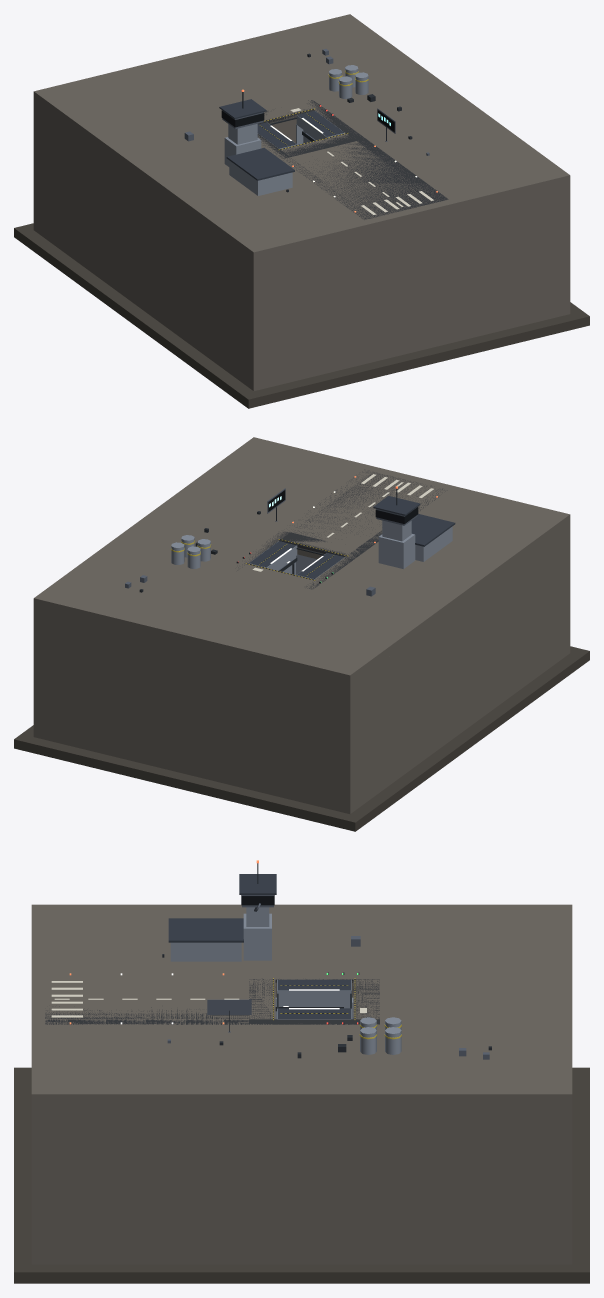
Rendered from runway-port-s.glb.
3 views of the same model, one above another, from view 1: azimuth 30°, elevation 25°; view 2: azimuth 150°, elevation 25°; view 3: azimuth 270°, elevation 25° (orthographic). The views are drawn at different scales.
Visible parts, largest first — view 1: rockFaceFore, rockFaceL, rockDeckL, rockDeckR, rockDeckFore, rockSkirt1, rockDeckAft, portStrip, rockSkirt2, rockFaceR, worksShedRoof, worksShed (+4 smaller); view 2: rockFaceAft, rockFaceL, rockDeckL, rockDeckR, rockDeckAft, rockSkirt0, rockDeckFore, rockSkirt2, rockFaceR, portStrip, worksTowerSeg0, worksShedRoof (+5 smaller); view 3: rockFaceR, rockDeckR, rockDeckL, rockSkirt3, rockDeckAft, rockDeckFore, rockSkirt0, rockSkirt1, portStrip, worksShedRoof, worksShed, worksTowerSeg0 (+7 smaller).
Boxes of the visible parts, x1=… form: rockFaceFore: x1=266, y1=188, x2=557, y2=387; rockFaceL: x1=33, y1=101, x2=266, y2=390; rockDeckL: x1=33, y1=61, x2=378, y2=261; rockDeckR: x1=225, y1=14, x2=570, y2=215; rockDeckFore: x1=280, y1=133, x2=444, y2=231; rockSkirt1: x1=241, y1=311, x2=589, y2=408; rockDeckAft: x1=159, y1=44, x2=313, y2=128; portStrip: x1=283, y1=139, x2=448, y2=219; rockSkirt2: x1=14, y1=225, x2=257, y2=408; rockFaceR: x1=557, y1=185, x2=570, y2=316; worksShedRoof: x1=226, y1=147, x2=294, y2=180; worksShed: x1=229, y1=160, x2=292, y2=195; rockFaceAft: x1=46, y1=611, x2=337, y2=810; rockFaceL: x1=337, y1=524, x2=570, y2=813; rockDeckL: x1=225, y1=484, x2=570, y2=684; rockDeckR: x1=33, y1=437, x2=378, y2=638; rockDeckAft: x1=159, y1=564, x2=313, y2=654; rockSkirt0: x1=14, y1=734, x2=362, y2=831; rockDeckFore: x1=290, y1=467, x2=444, y2=559; rockSkirt2: x1=348, y1=648, x2=589, y2=831; rockFaceR: x1=33, y1=608, x2=46, y2=739; portStrip: x1=291, y1=469, x2=447, y2=550; worksTowerSeg0: x1=378, y1=534, x2=415, y2=568; worksShedRoof: x1=411, y1=514, x2=455, y2=546; rockFaceR: x1=31, y1=1106, x2=572, y2=1264; rockDeckR: x1=31, y1=1019, x2=572, y2=1106; rockDeckL: x1=31, y1=904, x2=572, y2=991; rockSkirt3: x1=14, y1=1264, x2=589, y2=1283; rockDeckAft: x1=353, y1=979, x2=572, y2=1019; rockDeckFore: x1=31, y1=979, x2=275, y2=1019; rockSkirt0: x1=572, y1=1067, x2=589, y2=1283; rockSkirt1: x1=14, y1=1067, x2=31, y2=1283; portStrip: x1=45, y1=1006, x2=248, y2=1024; worksShedRoof: x1=168, y1=918, x2=243, y2=942; worksShed: x1=170, y1=942, x2=241, y2=961; worksTowerSeg0: x1=243, y1=913, x2=271, y2=960.
Bounding box in the file's own units: 109 × 72.53 × 130.
